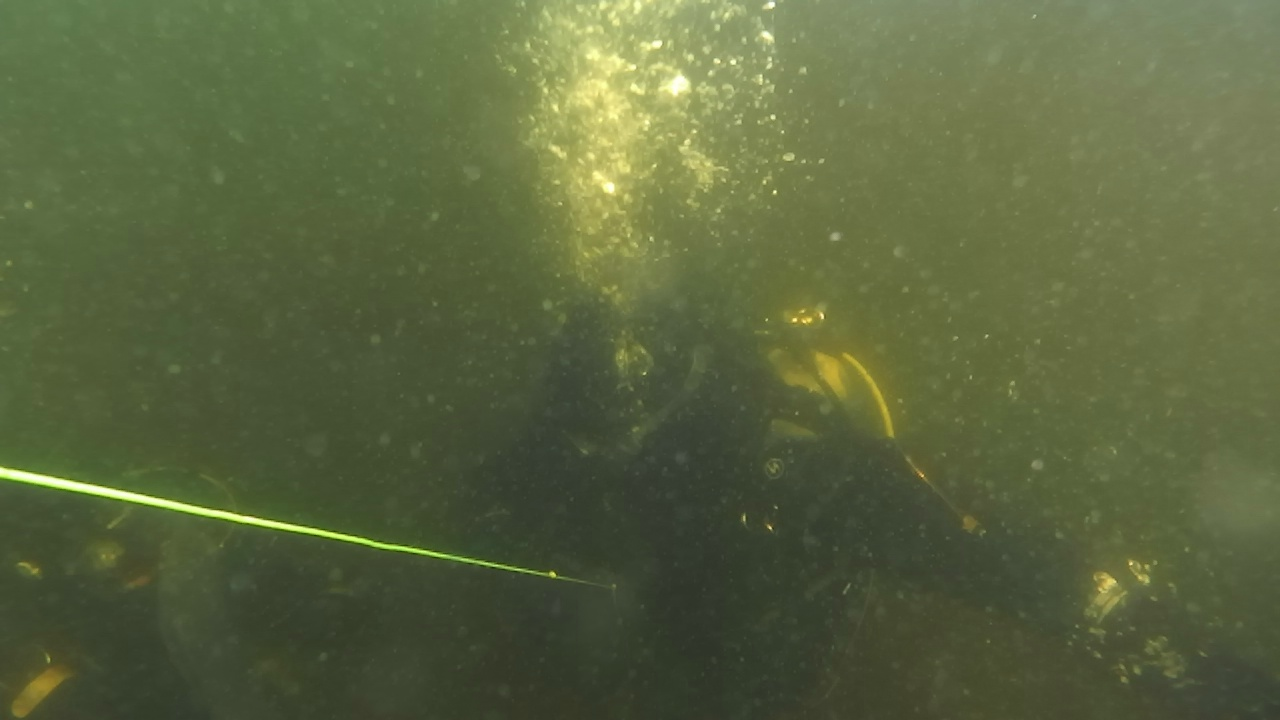Head: (538, 294, 772, 512)
